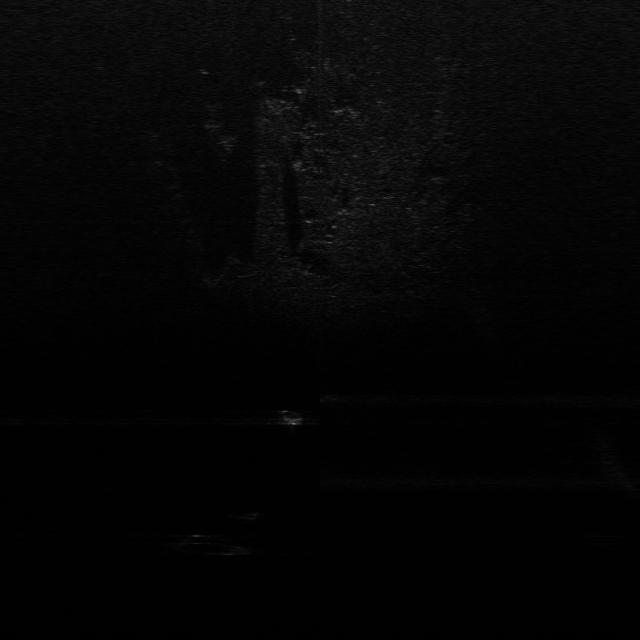cube: (230, 504, 264, 524)
square cage: (274, 408, 304, 430)
